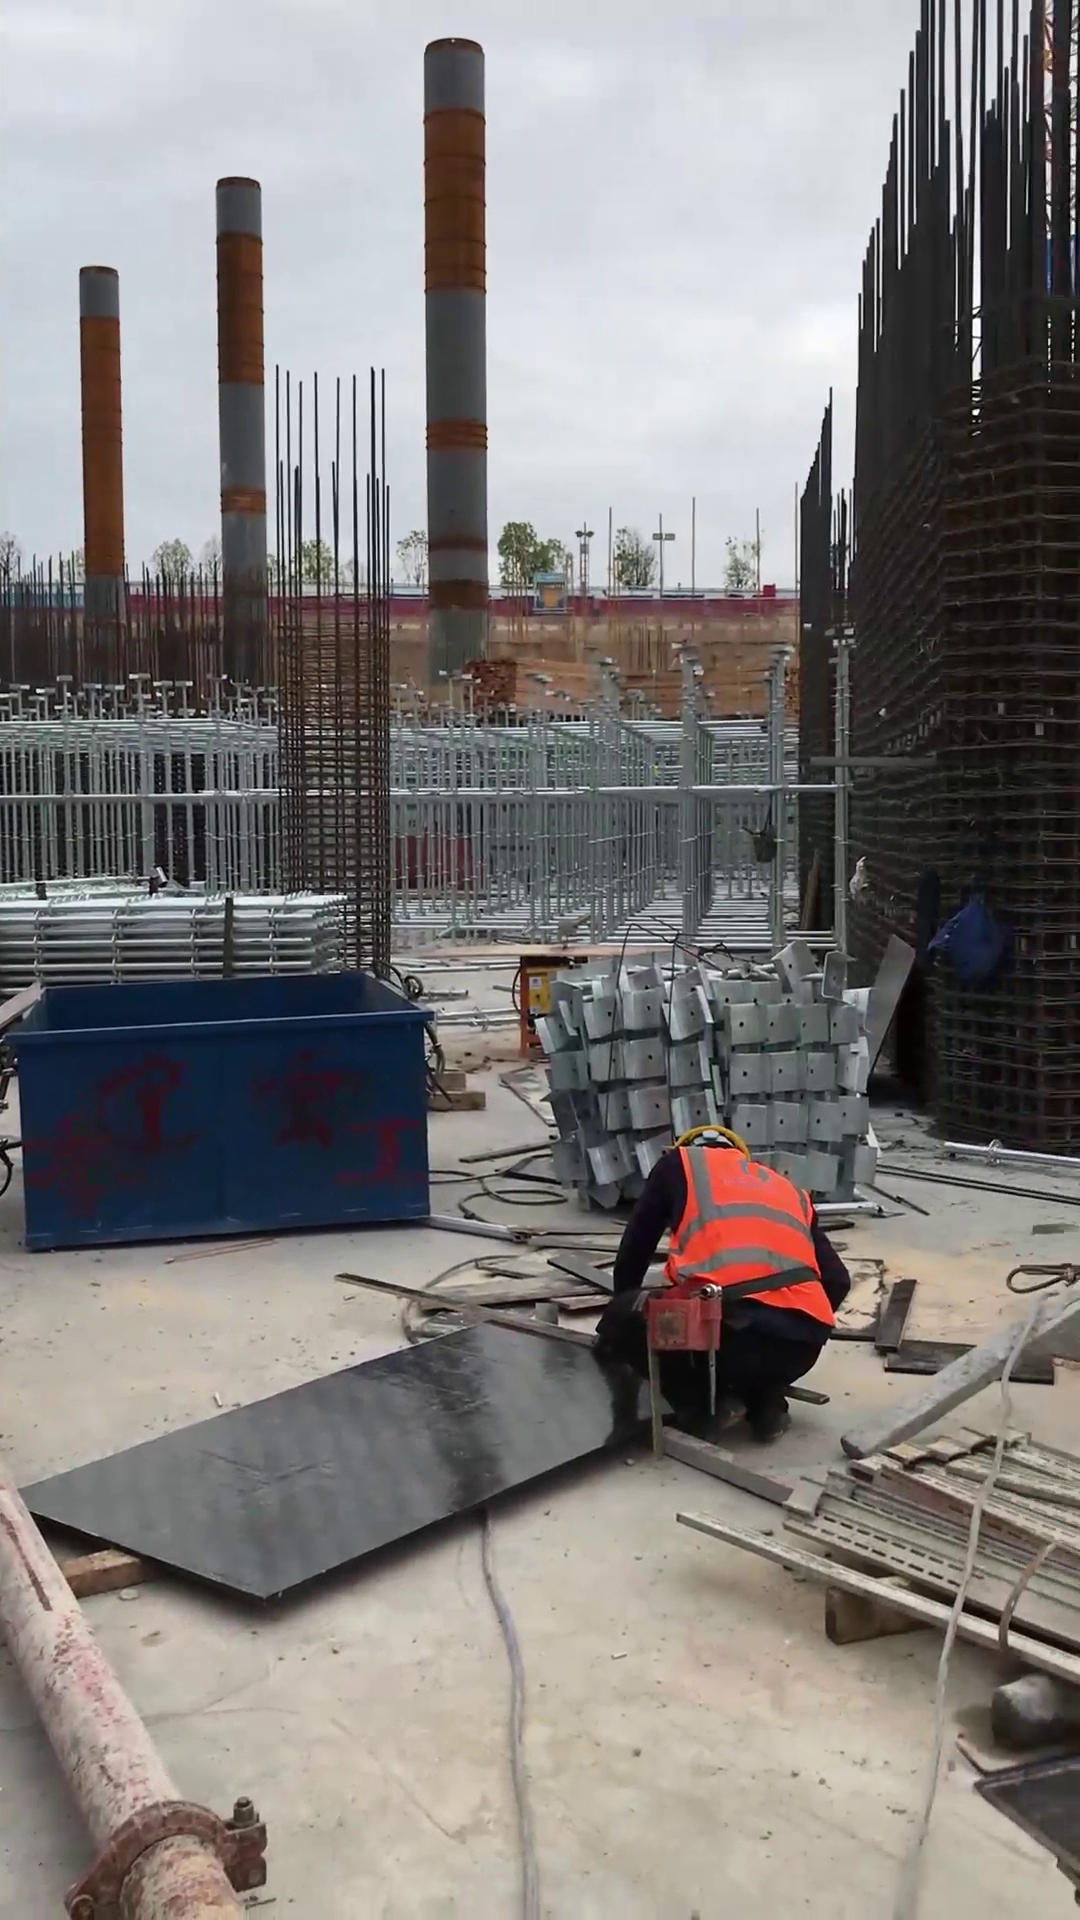cutter: (456, 922, 630, 1046)
helmet: (664, 1120, 747, 1156)
hopper: (4, 963, 459, 1272)
person: (585, 1113, 878, 1477)
scaffold: (1, 879, 366, 1016)
vest: (654, 1144, 842, 1337)
